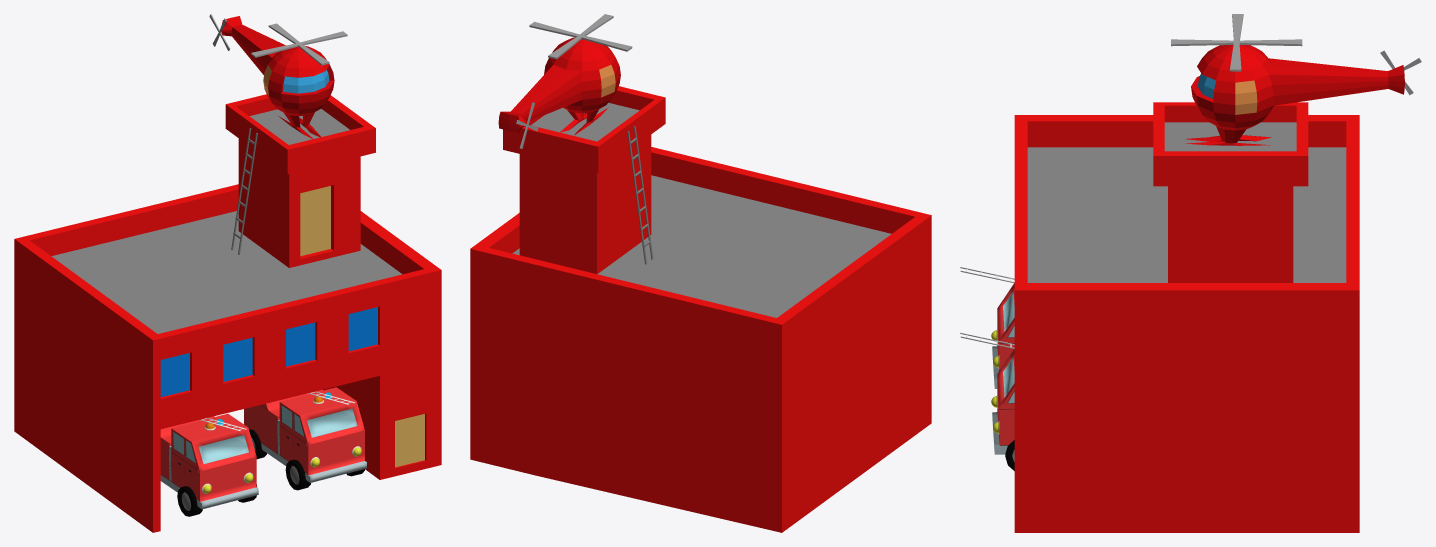
3 renders of one model, left to right at view 1: azimuth 30°, elevation 25°; view 2: azimuth 150°, elevation 25°; view 3: azimuth 270°, elevation 25°, orthographic. The views are drawn at different scales.
Parts seen in each view (by area): view 1: FireDept, Truck, Truck.001, Chopper, Ladder, Tyre1.001, Tyre1; view 2: FireDept, Chopper, Ladder; view 3: FireDept, Chopper, Truck, Truck.001.
Boxes of the visible parts, <box> form: FireDept: <box>14,94,441,532</box>; Truck: <box>244,387,366,482</box>; Truck.001: <box>160,413,258,509</box>; Chopper: <box>209,14,347,138</box>; Ladder: <box>231,128,257,254</box>; Tyre1.001: <box>177,486,202,516</box>; Tyre1: <box>285,459,310,490</box>; FireDept: <box>470,86,931,532</box>; Chopper: <box>498,14,632,148</box>; Ladder: <box>627,126,653,264</box>; FireDept: <box>1014,102,1359,532</box>; Chopper: <box>1171,14,1421,145</box>; Truck: <box>992,349,1014,454</box>; Truck.001: <box>992,283,1014,388</box>.
Size of the model in its own units: 9.35 by 11.42 by 10.41.
17 materials, 1 textured.
